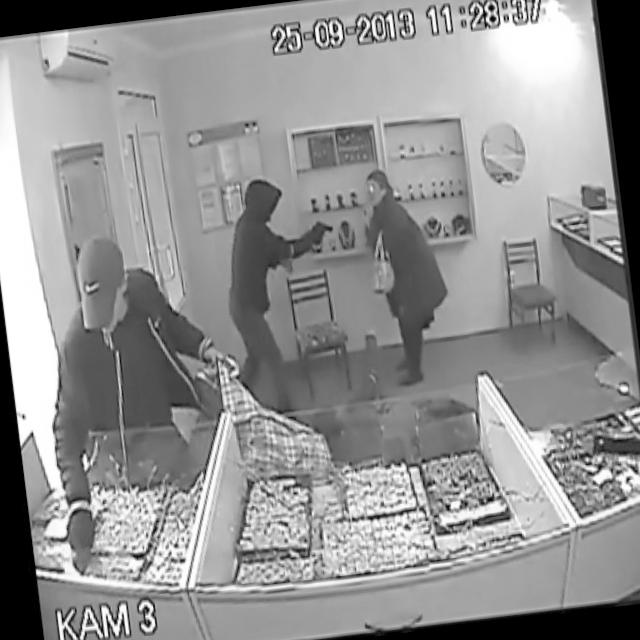gun: (296, 200, 341, 270)
person: (58, 206, 186, 416), (339, 163, 448, 380)
person with a gun: (210, 167, 360, 396)
